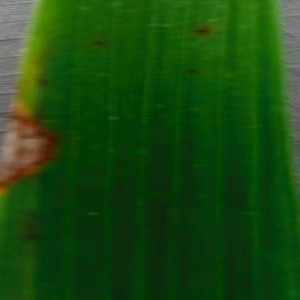Brown_Spot: (0, 95, 76, 204)
